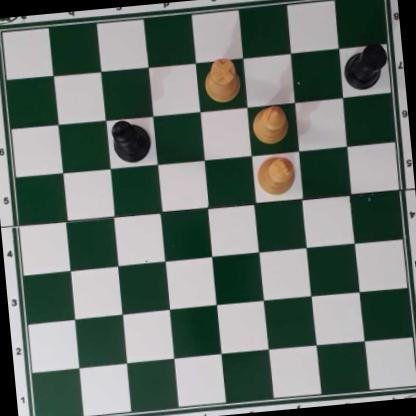black-king: (108, 118, 152, 164)
black-rook: (341, 42, 390, 90)
white-bishop: (251, 103, 289, 145)
white-king: (254, 154, 296, 197)
white-rook: (202, 58, 241, 102)
